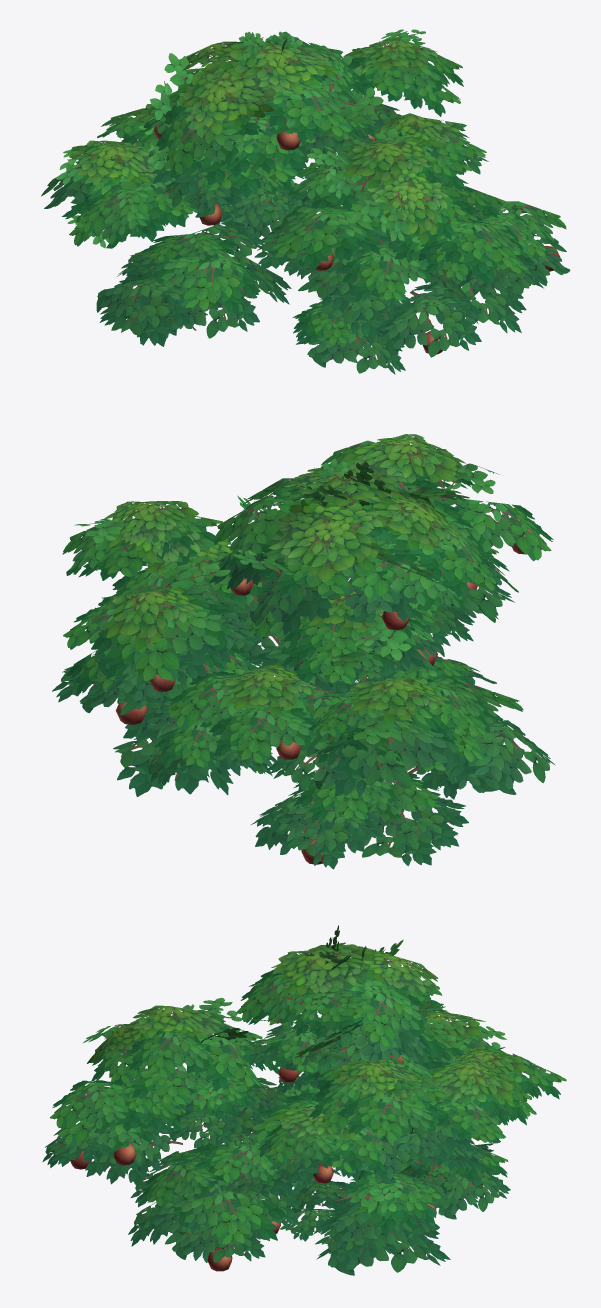
The model's file is scene_lawennushandao_tree01a.FBX.
3 views of the same model, one above another, from view 1: azimuth 30°, elevation 25°; view 2: azimuth 150°, elevation 25°; view 3: azimuth 270°, elevation 25° (orthographic). The views are drawn at different scales.
Parts seen in each view (by area): view 1: scene_lawennushandao_tree01a; view 2: scene_lawennushandao_tree01a; view 3: scene_lawennushandao_tree01a.
Boxes of the visible parts, x1,y1,x2,y2 form: scene_lawennushandao_tree01a: [41, 29, 570, 374]; scene_lawennushandao_tree01a: [52, 434, 554, 869]; scene_lawennushandao_tree01a: [42, 925, 566, 1275].
Size of the model in its own units: 570 by 369 by 665.
